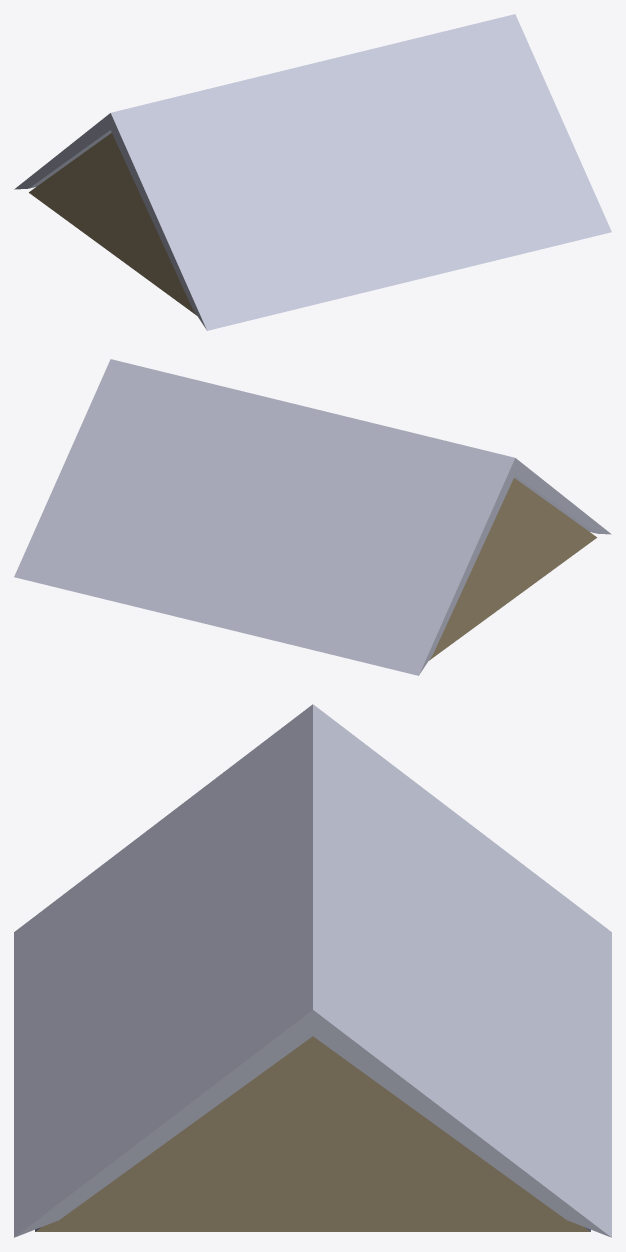
File: Roof_Gable.fbx
The picture shows the model from 3 angles, top to bottom: view 1: azimuth 30°, elevation 25°; view 2: azimuth 150°, elevation 25°; view 3: azimuth 270°, elevation 25°; orthographic projection. The views are drawn at different scales.
Visible parts, largest first — view 1: Roof_Gable; view 2: Roof_Gable; view 3: Roof_Gable.
Boxes of the visible parts, left/top/right/bottom form: Roof_Gable: left=14, top=14, right=611, bottom=330; Roof_Gable: left=14, top=359, right=611, bottom=675; Roof_Gable: left=14, top=704, right=611, bottom=1237.
Bounding box in the file's own units: 10.4 × 3.62 × 8.6.
1 material, 1 textured.
